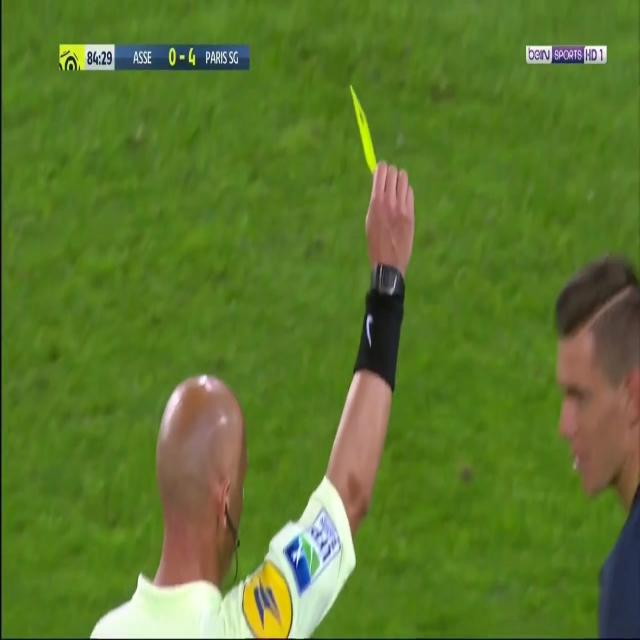Player: (548, 251, 640, 639)
Referee: (88, 159, 416, 635)
